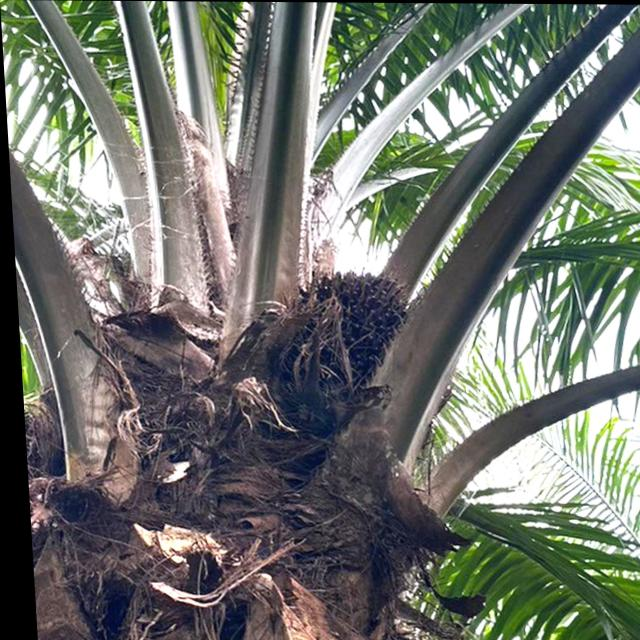unripe: (268, 254, 436, 419)
